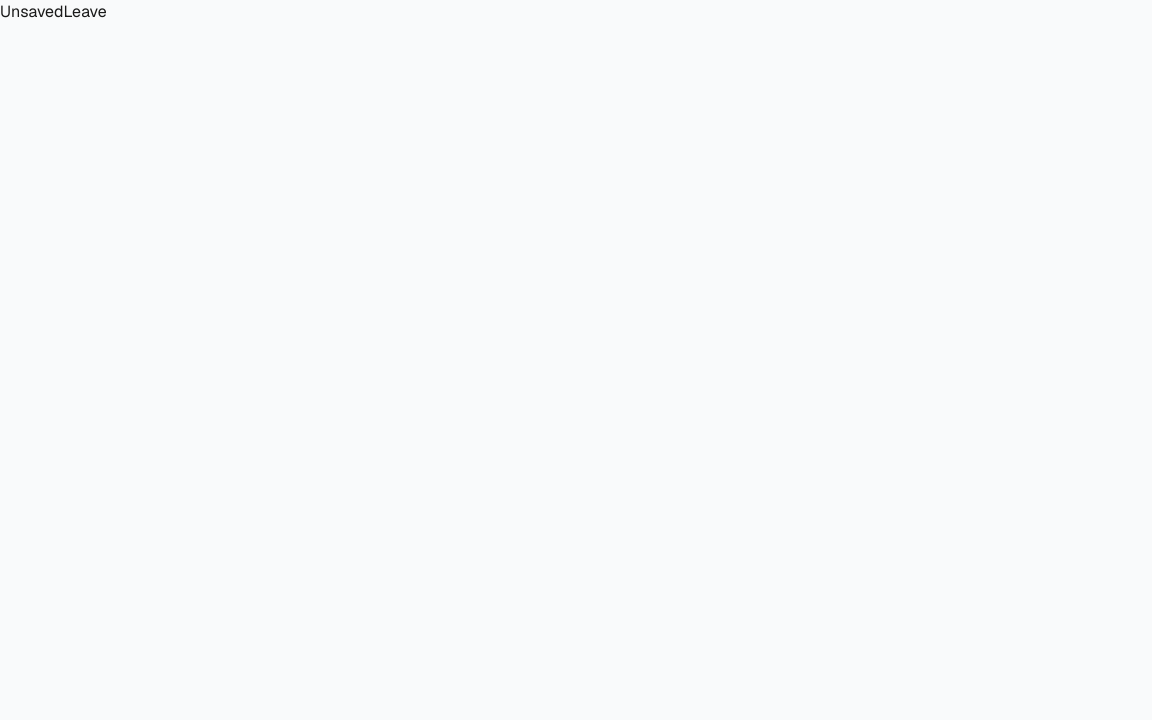
Test: shared unsaved changes guard › blocks a router leave, flushes, and keeps the editor if you cancel
Click the link "Leave". click: {"x": 85, "y": 12}
box: [64,1,107,22]
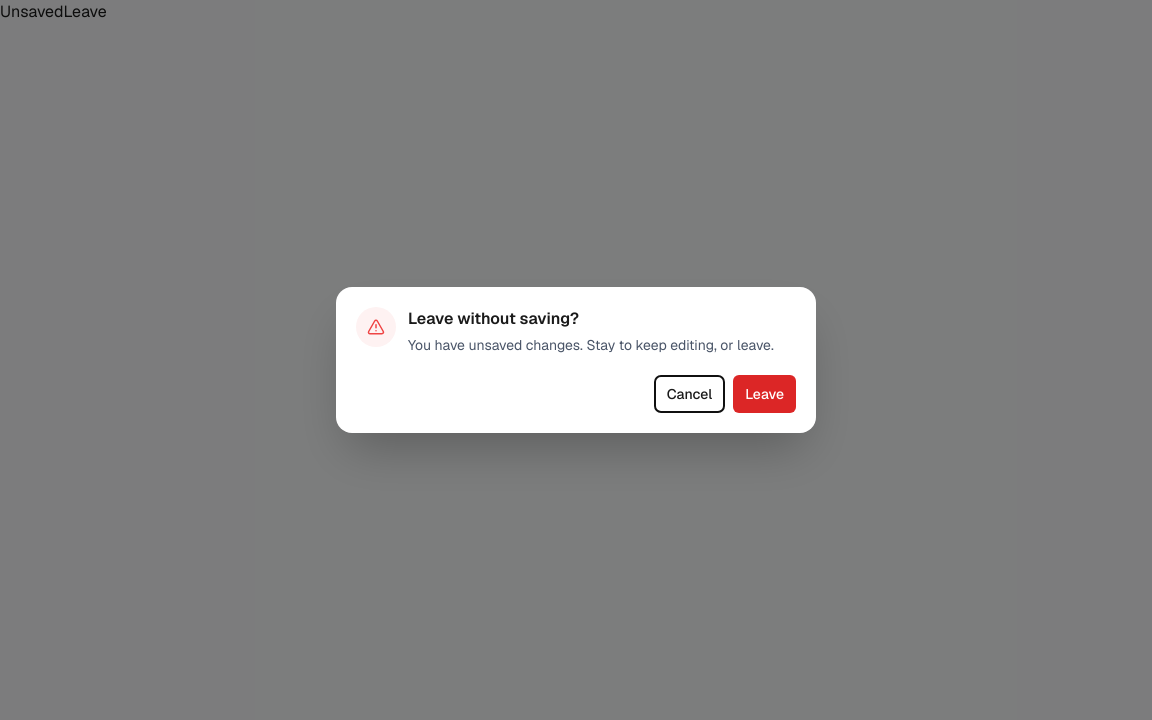
Expected: the text "Leave without saving?" is shown, [408,308,579,329]
Click the button "Cancel". click: {"x": 689, "y": 394}
box: [654,375,725,413]
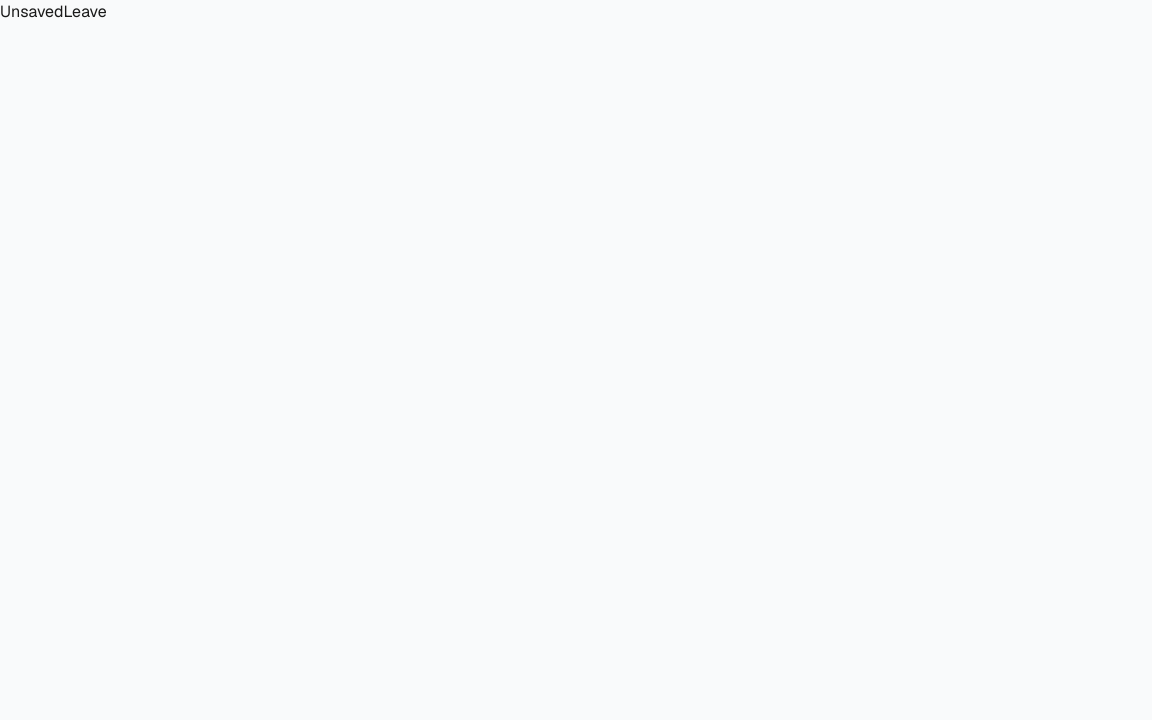
Expected: the text "Unsaved" is shown, [0,1,64,22]
Expected: the text "Leave without saving?" is gone
